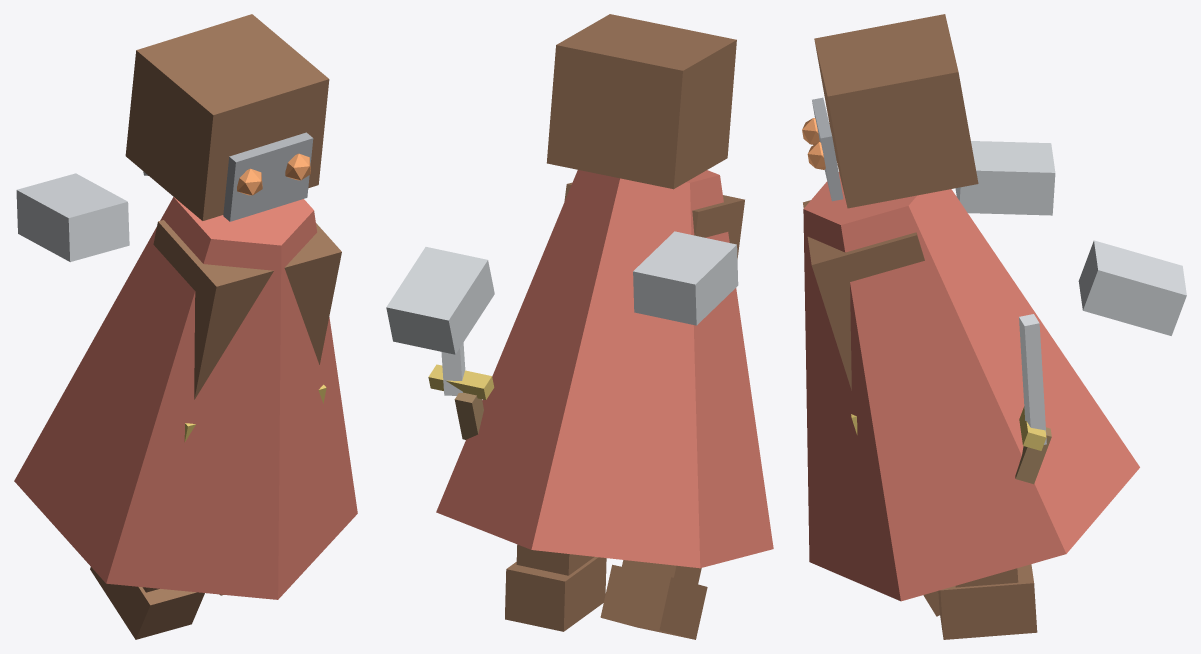
The model's file is npcpose_raider_idle_02.glb.
The picture shows the model from 3 angles, left to right: view 1: azimuth 30°, elevation 25°; view 2: azimuth 150°, elevation 25°; view 3: azimuth 270°, elevation 25°; orthographic projection. The views are drawn at different scales.
Visible parts, largest first — view 1: npcpose; view 2: npcpose; view 3: npcpose.
Part boxes in pixels (box(x1,y1,x2,y2)): npcpose: box(14, 14, 357, 639); npcpose: box(386, 14, 773, 639); npcpose: box(802, 14, 1186, 639).
Size of the model in its own units: 0.8164 by 1.63 by 0.982.
